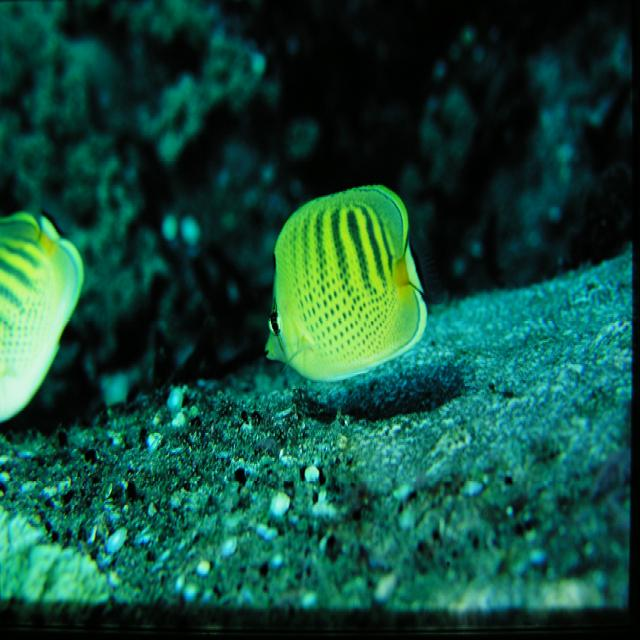ButterflyFish: (262, 185, 429, 382)
